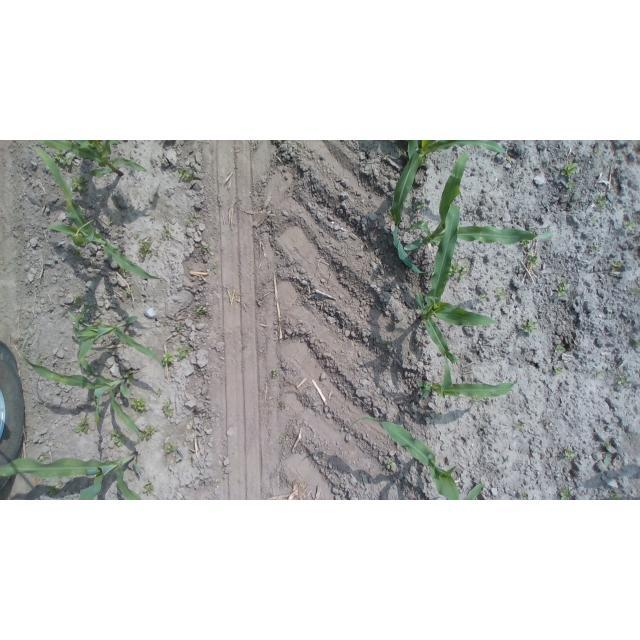Maize: (28, 146, 177, 290), (390, 151, 554, 279), (412, 199, 502, 366), (342, 412, 494, 500), (16, 354, 158, 447), (2, 445, 159, 500), (55, 307, 169, 367), (416, 356, 517, 406), (36, 140, 152, 182), (403, 141, 509, 161)
Weeds: (173, 160, 198, 184), (559, 163, 581, 190), (133, 423, 159, 442), (73, 414, 94, 436), (69, 174, 92, 194), (601, 441, 615, 469), (555, 277, 572, 300), (53, 151, 77, 167), (109, 429, 129, 448), (138, 238, 157, 258), (160, 399, 176, 422), (132, 397, 151, 416), (520, 320, 540, 337), (615, 372, 633, 390), (449, 263, 468, 280), (139, 478, 155, 496), (187, 210, 201, 229), (494, 287, 510, 302), (167, 443, 184, 457), (595, 194, 609, 211), (557, 488, 576, 500), (195, 302, 209, 318), (623, 217, 637, 232), (162, 352, 179, 364), (526, 254, 540, 268), (382, 456, 395, 471), (162, 222, 174, 238), (513, 420, 526, 434), (563, 447, 576, 461), (177, 346, 192, 358), (549, 365, 565, 376), (47, 483, 60, 496), (72, 296, 86, 308), (172, 321, 185, 333), (269, 368, 280, 382), (554, 343, 566, 355), (200, 245, 214, 255), (518, 490, 531, 500), (629, 287, 640, 298), (613, 261, 622, 274), (591, 243, 601, 254), (275, 400, 285, 411), (594, 368, 603, 380), (416, 200, 425, 212), (520, 240, 533, 248), (588, 216, 598, 226), (607, 493, 621, 500), (74, 246, 83, 256), (527, 227, 537, 236), (156, 390, 165, 399), (385, 342, 394, 351), (209, 265, 218, 274), (630, 338, 640, 346), (278, 433, 286, 443), (543, 417, 550, 428), (483, 424, 489, 434), (148, 215, 156, 222)
